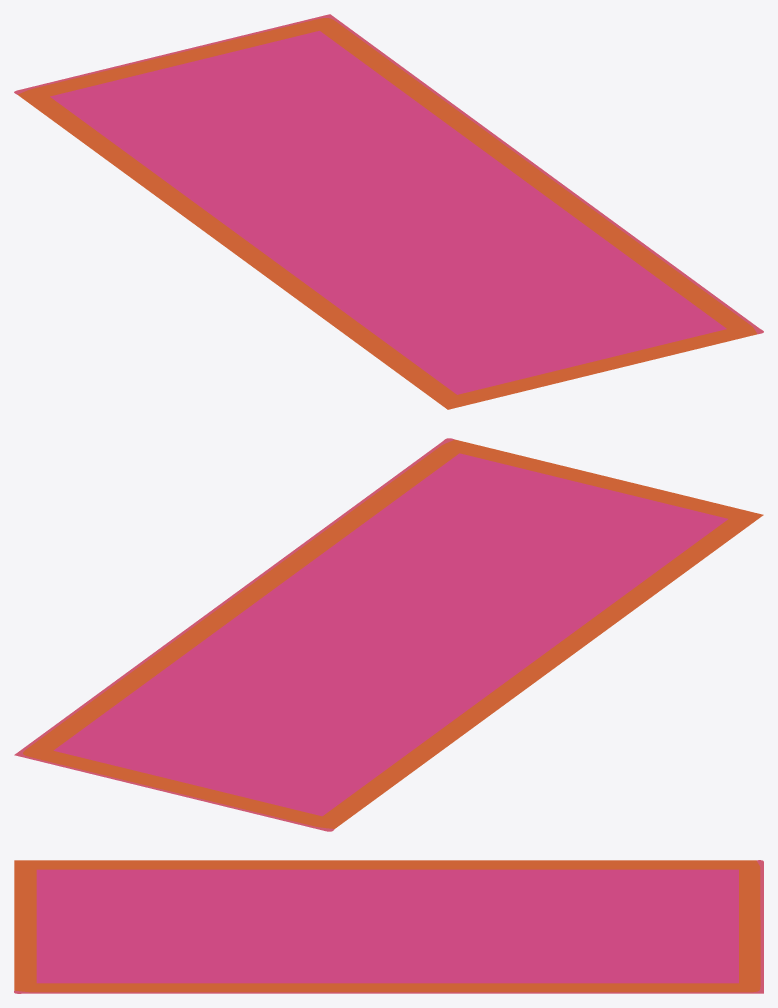
File: squarev3.dae
3 renders of one model, top to bottom at view 1: azimuth 30°, elevation 25°; view 2: azimuth 150°, elevation 25°; view 3: azimuth 270°, elevation 25°, orthographic. The views are drawn at different scales.
Visible parts, largest first — view 1: Curve.002, Curve, Curve.001; view 2: Curve.002, Curve, Curve.001; view 3: Curve.002, Curve, Curve.001.
Boxes of the visible parts, <box> form: Curve.002: <box>50,30,726,394</box>; Curve: <box>17,18,757,409</box>; Curve.001: <box>14,14,763,334</box>; Curve.002: <box>53,453,727,816</box>; Curve: <box>23,439,763,828</box>; Curve.001: <box>14,438,454,831</box>; Curve.002: <box>36,869,738,983</box>; Curve: <box>14,860,760,992</box>; Curve.001: <box>14,860,763,993</box>.
Bounding box in the file's own units: 2.71 × 6.41 × 0.
